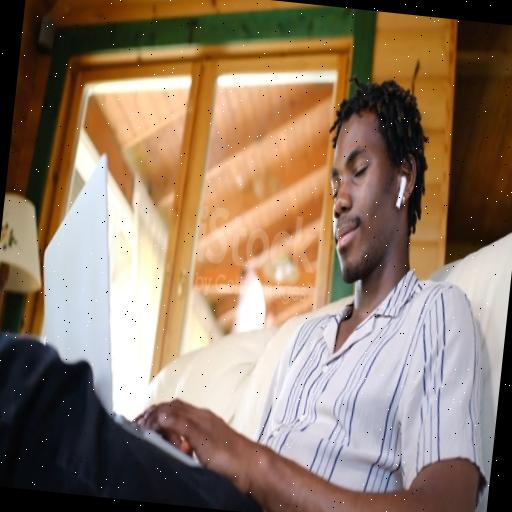earphone: (392, 174, 410, 216)
